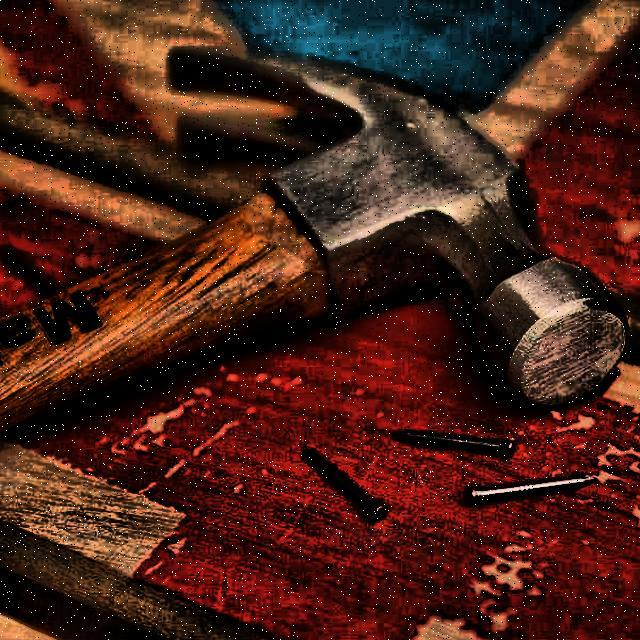hammer: (0, 45, 630, 410)
